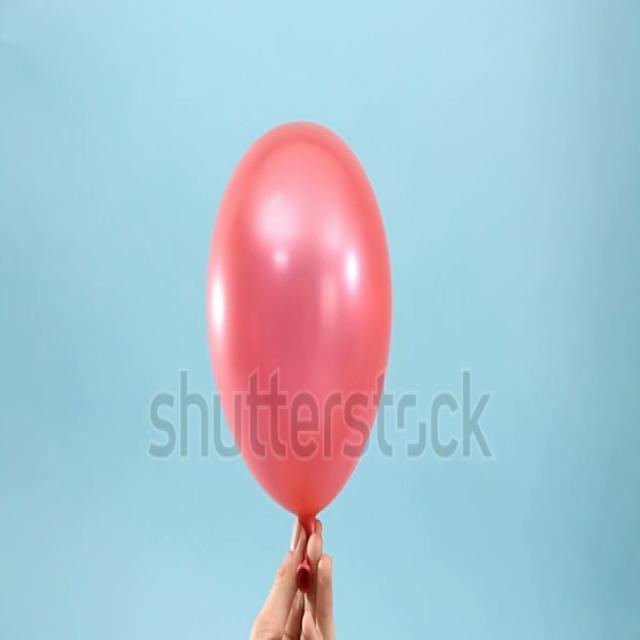red: (204, 118, 393, 539)
